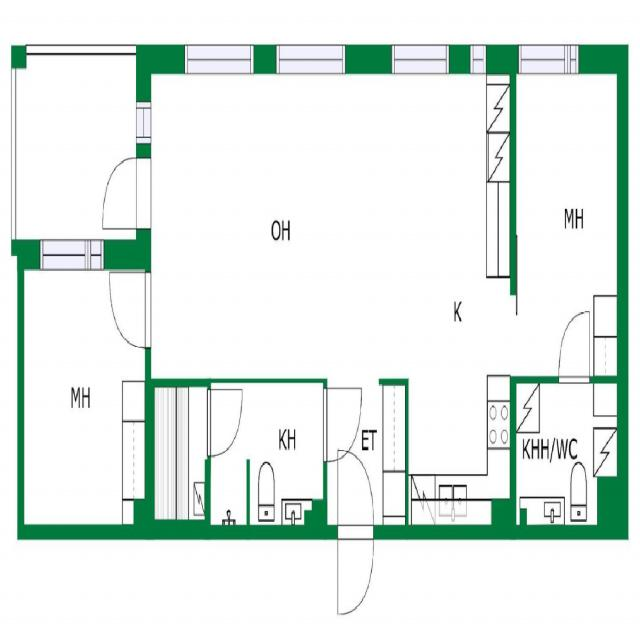door: (337, 524, 374, 616), (337, 447, 374, 538), (104, 158, 152, 227), (110, 274, 152, 347), (324, 387, 362, 460), (205, 389, 242, 457), (559, 312, 590, 384)
